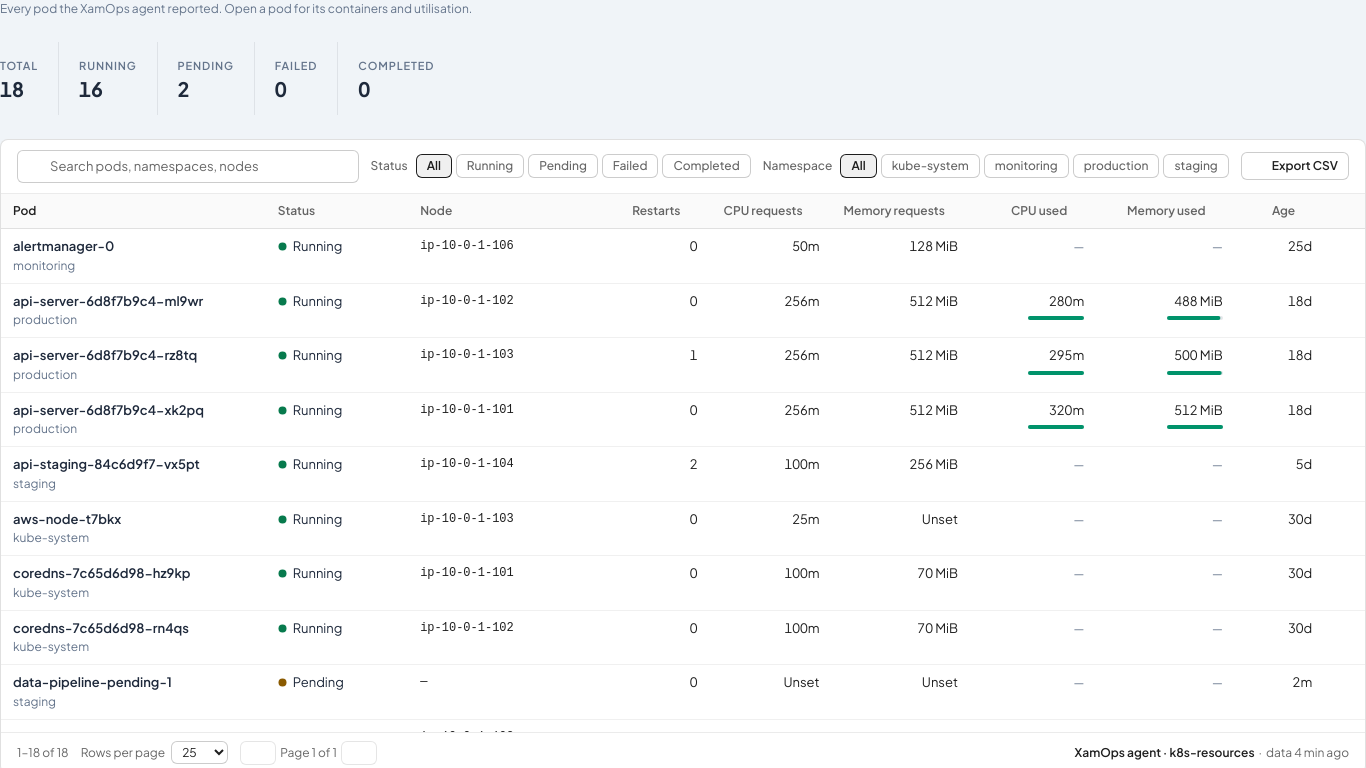
it: Workloads › Pods (§10.4, D10) › shows the phase with a StatusDot and never fabricates a per-pod cost
Expected: the 4th element showing "Running" is shown, [278, 400, 342, 420]
Expected: the 4th cell "Running" is shown, [266, 392, 408, 446]
Note: The drawer shows the full untruncated node + image, and NO Cost section (per-pod $ GAP).
Click the button with aria-label "api-server-6d8f7b9c4-xk2pq".
click(108, 410)  # box [1, 392, 1365, 446]
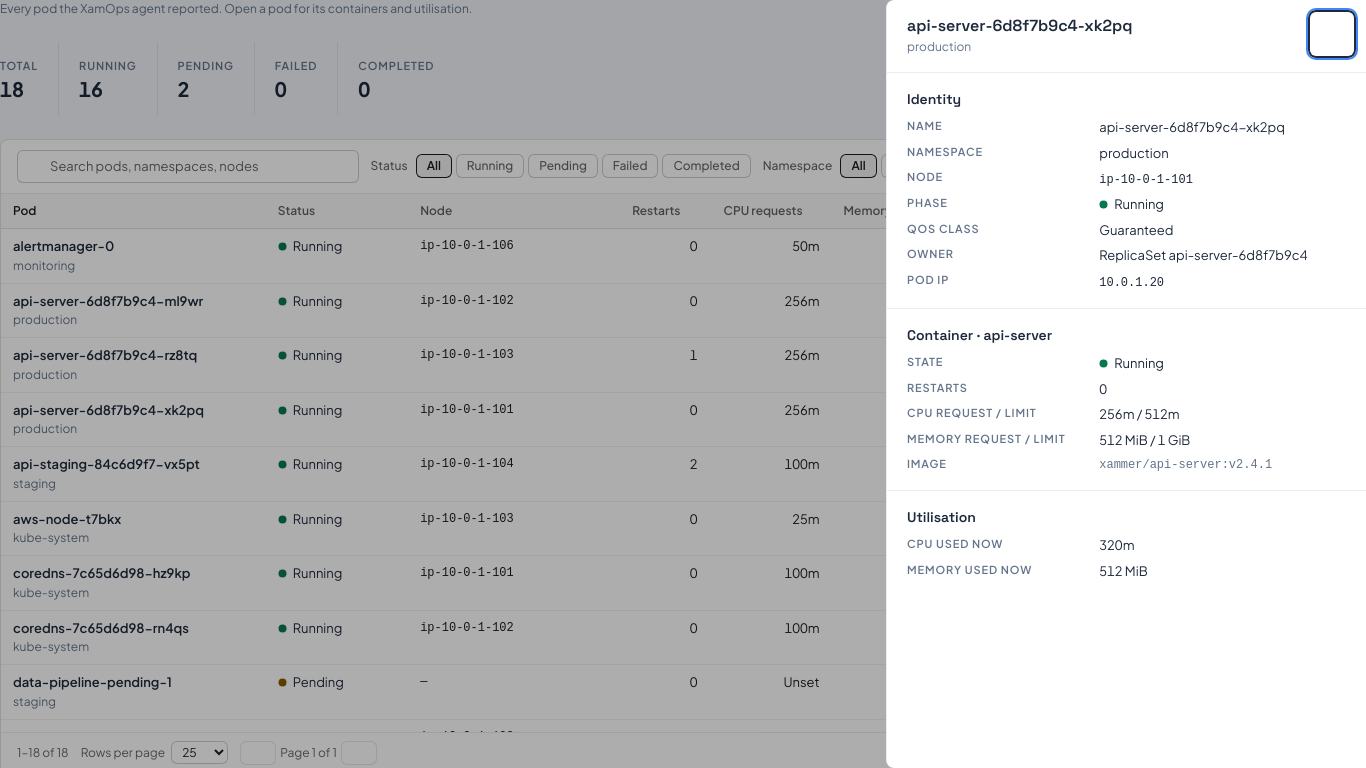
Result: the dialog shows "ip-10-0-1-101" at [1099, 173, 1193, 187]
Result: the dialog shows "xammer/api-server:v2.4.1" at [1099, 458, 1272, 472]
Result: the dialog shows "Guaranteed" at [1099, 222, 1174, 238]
